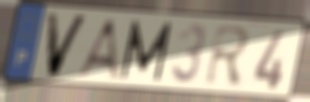3: (171, 21, 206, 86)
4: (250, 26, 286, 93)
A: (73, 16, 122, 82)
M: (118, 18, 175, 83)
R: (203, 23, 254, 87)
V: (44, 11, 91, 79)
